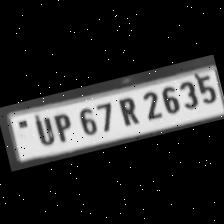2: (134, 86, 164, 122)
3: (174, 76, 199, 110)
5: (192, 70, 218, 106)
6: (71, 101, 101, 138), (156, 80, 182, 116)
7: (91, 97, 118, 132)
P: (48, 106, 78, 142)
R: (110, 92, 142, 128)
U: (27, 112, 57, 148)
